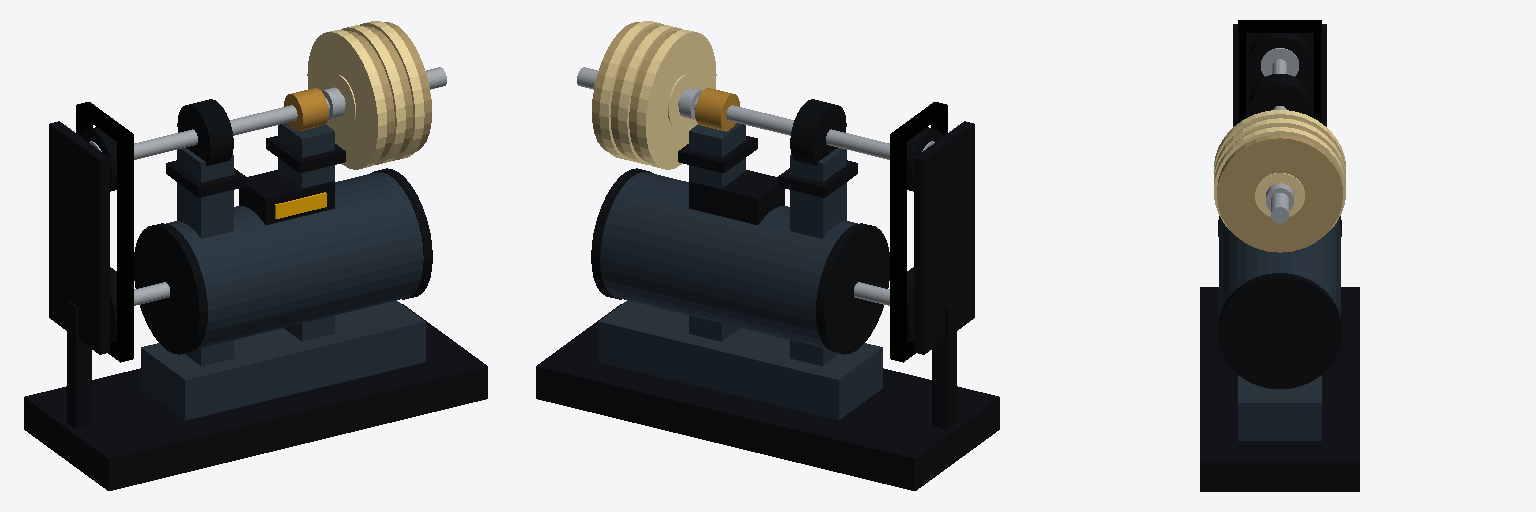
The robot description file, URDF, robot "belt_driven_buffing_wheel":
<robot name="belt_driven_buffing_wheel">
  <material name="painted_steel">
    <color rgba="0.18 0.23 0.27 1" />
    </material>
  <material name="dark_cast_metal">
    <color rgba="0.08 0.09 0.1 1" />
    </material>
  <material name="brushed_steel">
    <color rgba="0.66 0.68 0.7 1" />
    </material>
  <material name="black_rubber">
    <color rgba="0.015 0.014 0.012 1" />
    </material>
  <material name="buffing_cloth">
    <color rgba="0.92 0.84 0.62 1" />
    </material>
  <material name="cloth_shadow">
    <color rgba="0.7 0.61 0.43 1" />
    </material>
  <material name="brass_bushing">
    <color rgba="0.72 0.53 0.22 1" />
    </material>
  <material name="warning_label">
    <color rgba="0.95 0.7 0.05 1" />
    </material>
  <link name="frame">
    <visual name="base_plate">
      <origin xyz="0.05 0 0.04" rpy="0 0 0" />
      <geometry>
        <box size="0.98 0.38 0.08" />
        </geometry>
      <material name="dark_cast_metal" />
      </visual>
    <visual name="motor_pedestal">
      <origin xyz="0.12 0 0.13" rpy="0 0 0" />
      <geometry>
        <box size="0.62 0.2 0.1" />
        </geometry>
      <material name="painted_steel" />
      </visual>
    <visual name="motor_shell">
      <origin xyz="0.12 0 0.36" rpy="0 1.5708 0" />
      <geometry>
        <cylinder radius="0.145" length="0.56" />
        </geometry>
      <material name="painted_steel" />
      </visual>
    <visual name="motor_end_cap">
      <origin xyz="-0.17 0 0.36" rpy="0 1.5708 0" />
      <geometry>
        <cylinder radius="0.148" length="0.022" />
        </geometry>
      <material name="dark_cast_metal" />
      </visual>
    <visual name="rear_end_cap">
      <origin xyz="0.41 0 0.36" rpy="0 1.5708 0" />
      <geometry>
        <cylinder radius="0.148" length="0.022" />
        </geometry>
      <material name="dark_cast_metal" />
      </visual>
    <visual name="terminal_box">
      <origin xyz="0.13 0 0.52" rpy="0 0 0" />
      <geometry>
        <box size="0.18 0.12 0.075" />
        </geometry>
      <material name="dark_cast_metal" />
      </visual>
    <visual name="nameplate">
      <origin xyz="0.13 -0.062 0.52" rpy="0 0 0" />
      <geometry>
        <box size="0.13 0.004 0.035" />
        </geometry>
      <material name="warning_label" />
      </visual>
    <visual name="bearing_post_0">
      <origin xyz="-0.08 0 0.38" rpy="0 0 0" />
      <geometry>
        <box size="0.085 0.11 0.6" />
        </geometry>
      <material name="painted_steel" />
      </visual>
    <visual name="bearing_ring_0">
      <origin xyz="-0.08 0 0.72" rpy="0 0 0" />
      <geometry>
        <mesh filename="assets/meshes/bearing_ring_0.obj" />
        </geometry>
      <material name="dark_cast_metal" />
      </visual>
    <visual name="bushing_0">
      <origin xyz="-0.08 0 0.72" rpy="0 0 0" />
      <geometry>
        <mesh filename="assets/meshes/bushing_0.obj" />
        </geometry>
      <material name="brass_bushing" />
      </visual>
    <visual name="bearing_cap_foot_0">
      <origin xyz="-0.08 0 0.62" rpy="0 0 0" />
      <geometry>
        <box size="0.12 0.15 0.026" />
        </geometry>
      <material name="dark_cast_metal" />
      </visual>
    <visual name="bearing_post_1">
      <origin xyz="0.18 0 0.38" rpy="0 0 0" />
      <geometry>
        <box size="0.085 0.11 0.6" />
        </geometry>
      <material name="painted_steel" />
      </visual>
    <visual name="bearing_ring_1">
      <origin xyz="0.18 0 0.72" rpy="0 0 0" />
      <geometry>
        <mesh filename="assets/meshes/bearing_ring_1.obj" />
        </geometry>
      <material name="dark_cast_metal" />
      </visual>
    <visual name="bushing_1">
      <origin xyz="0.18 0 0.72" rpy="0 0 0" />
      <geometry>
        <mesh filename="assets/meshes/bushing_1.obj" />
        </geometry>
      <material name="brass_bushing" />
      </visual>
    <visual name="bearing_cap_foot_1">
      <origin xyz="0.18 0 0.62" rpy="0 0 0" />
      <geometry>
        <box size="0.12 0.15 0.026" />
        </geometry>
      <material name="dark_cast_metal" />
      </visual>
    <visual name="motor_output_shaft">
      <origin xyz="-0.255 0 0.36" rpy="0 1.5708 0" />
      <geometry>
        <cylinder radius="0.018" length="0.2" />
        </geometry>
      <material name="brushed_steel" />
      </visual>
    <visual name="motor_pulley">
      <origin xyz="-0.34 0 0.36" rpy="0 1.5708 0" />
      <geometry>
        <cylinder radius="0.084" length="0.045" />
        </geometry>
      <material name="dark_cast_metal" />
      </visual>
    <visual name="motor_pulley_hub">
      <origin xyz="-0.34 0 0.36" rpy="0 1.5708 0" />
      <geometry>
        <cylinder radius="0.052" length="0.052" />
        </geometry>
      <material name="brushed_steel" />
      </visual>
    <visual name="drive_belt_side_0">
      <origin xyz="-0.34 0.09 0.54" rpy="0 0 0" />
      <geometry>
        <box size="0.034 0.017 0.524" />
        </geometry>
      <material name="black_rubber" />
      </visual>
    <visual name="drive_belt_side_1">
      <origin xyz="-0.34 -0.09 0.54" rpy="0 0 0" />
      <geometry>
        <box size="0.034 0.017 0.524" />
        </geometry>
      <material name="black_rubber" />
      </visual>
    <visual name="drive_belt_upper_span">
      <origin xyz="-0.34 0 0.809" rpy="0 0 0" />
      <geometry>
        <box size="0.034 0.198 0.018" />
        </geometry>
      <material name="black_rubber" />
      </visual>
    <visual name="drive_belt_lower_span">
      <origin xyz="-0.34 0 0.271" rpy="0 0 0" />
      <geometry>
        <box size="0.034 0.198 0.018" />
        </geometry>
      <material name="black_rubber" />
      </visual>
    <visual name="belt_guard_backplate">
      <origin xyz="-0.405 0 0.54" rpy="0 0 0" />
      <geometry>
        <box size="0.026 0.225 0.48" />
        </geometry>
      <material name="dark_cast_metal" />
      </visual>
    <visual name="belt_guard_stand">
      <origin xyz="-0.405 0 0.23" rpy="0 0 0" />
      <geometry>
        <box size="0.04 0.04 0.3" />
        </geometry>
      <material name="dark_cast_metal" />
      </visual>
    <collision name="base_plate">
      <origin xyz="0.05 0 0.04" rpy="0 0 0" />
      <geometry>
        <box size="0.98 0.38 0.08" />
        </geometry>
      </collision>
    <collision name="motor_pedestal">
      <origin xyz="0.12 0 0.13" rpy="0 0 0" />
      <geometry>
        <box size="0.62 0.2 0.1" />
        </geometry>
      </collision>
    <collision name="motor_shell">
      <origin xyz="0.12 0 0.36" rpy="0 1.5708 0" />
      <geometry>
        <cylinder radius="0.145" length="0.56" />
        </geometry>
      </collision>
    <collision name="motor_end_cap">
      <origin xyz="-0.17 0 0.36" rpy="0 1.5708 0" />
      <geometry>
        <cylinder radius="0.148" length="0.022" />
        </geometry>
      </collision>
    <collision name="rear_end_cap">
      <origin xyz="0.41 0 0.36" rpy="0 1.5708 0" />
      <geometry>
        <cylinder radius="0.148" length="0.022" />
        </geometry>
      </collision>
    <collision name="terminal_box">
      <origin xyz="0.13 0 0.52" rpy="0 0 0" />
      <geometry>
        <box size="0.18 0.12 0.075" />
        </geometry>
      </collision>
    <collision name="nameplate">
      <origin xyz="0.13 -0.062 0.52" rpy="0 0 0" />
      <geometry>
        <box size="0.13 0.004 0.035" />
        </geometry>
      </collision>
    <collision name="bearing_post_0">
      <origin xyz="-0.08 0 0.38" rpy="0 0 0" />
      <geometry>
        <box size="0.085 0.11 0.6" />
        </geometry>
      </collision>
    <collision name="bearing_ring_0">
      <origin xyz="-0.08 0 0.72" rpy="0 0 0" />
      <geometry>
        <mesh filename="assets/meshes/bearing_ring_0.obj" />
        </geometry>
      </collision>
    <collision name="bushing_0">
      <origin xyz="-0.08 0 0.72" rpy="0 0 0" />
      <geometry>
        <mesh filename="assets/meshes/bushing_0.obj" />
        </geometry>
      </collision>
    <collision name="bearing_cap_foot_0">
      <origin xyz="-0.08 0 0.62" rpy="0 0 0" />
      <geometry>
        <box size="0.12 0.15 0.026" />
        </geometry>
      </collision>
    <collision name="bearing_post_1">
      <origin xyz="0.18 0 0.38" rpy="0 0 0" />
      <geometry>
        <box size="0.085 0.11 0.6" />
        </geometry>
      </collision>
    <collision name="bearing_ring_1">
      <origin xyz="0.18 0 0.72" rpy="0 0 0" />
      <geometry>
        <mesh filename="assets/meshes/bearing_ring_1.obj" />
        </geometry>
      </collision>
    <collision name="bushing_1">
      <origin xyz="0.18 0 0.72" rpy="0 0 0" />
      <geometry>
        <mesh filename="assets/meshes/bushing_1.obj" />
        </geometry>
      </collision>
    <collision name="bearing_cap_foot_1">
      <origin xyz="0.18 0 0.62" rpy="0 0 0" />
      <geometry>
        <box size="0.12 0.15 0.026" />
        </geometry>
      </collision>
    <collision name="motor_output_shaft">
      <origin xyz="-0.255 0 0.36" rpy="0 1.5708 0" />
      <geometry>
        <cylinder radius="0.018" length="0.2" />
        </geometry>
      </collision>
    <collision name="motor_pulley">
      <origin xyz="-0.34 0 0.36" rpy="0 1.5708 0" />
      <geometry>
        <cylinder radius="0.084" length="0.045" />
        </geometry>
      </collision>
    <collision name="motor_pulley_hub">
      <origin xyz="-0.34 0 0.36" rpy="0 1.5708 0" />
      <geometry>
        <cylinder radius="0.052" length="0.052" />
        </geometry>
      </collision>
    <collision name="drive_belt_side_0">
      <origin xyz="-0.34 0.09 0.54" rpy="0 0 0" />
      <geometry>
        <box size="0.034 0.017 0.524" />
        </geometry>
      </collision>
    <collision name="drive_belt_side_1">
      <origin xyz="-0.34 -0.09 0.54" rpy="0 0 0" />
      <geometry>
        <box size="0.034 0.017 0.524" />
        </geometry>
      </collision>
    <collision name="drive_belt_upper_span">
      <origin xyz="-0.34 0 0.809" rpy="0 0 0" />
      <geometry>
        <box size="0.034 0.198 0.018" />
        </geometry>
      </collision>
    <collision name="drive_belt_lower_span">
      <origin xyz="-0.34 0 0.271" rpy="0 0 0" />
      <geometry>
        <box size="0.034 0.198 0.018" />
        </geometry>
      </collision>
    <collision name="belt_guard_backplate">
      <origin xyz="-0.405 0 0.54" rpy="0 0 0" />
      <geometry>
        <box size="0.026 0.225 0.48" />
        </geometry>
      </collision>
    <collision name="belt_guard_stand">
      <origin xyz="-0.405 0 0.23" rpy="0 0 0" />
      <geometry>
        <box size="0.04 0.04 0.3" />
        </geometry>
      </collision>
    </link>
  <link name="spindle">
    <visual name="shaft">
      <origin xyz="0.05 0 0" rpy="0 1.5708 0" />
      <geometry>
        <cylinder radius="0.018" length="0.86" />
        </geometry>
      <material name="brushed_steel" />
      </visual>
    <visual name="driven_pulley">
      <origin xyz="-0.34 0 0" rpy="0 1.5708 0" />
      <geometry>
        <cylinder radius="0.074" length="0.05" />
        </geometry>
      <material name="dark_cast_metal" />
      </visual>
    <visual name="driven_pulley_hub">
      <origin xyz="-0.34 0 0" rpy="0 1.5708 0" />
      <geometry>
        <cylinder radius="0.046" length="0.058" />
        </geometry>
      <material name="brushed_steel" />
      </visual>
    <visual name="inner_flange">
      <origin xyz="0.245 0 0" rpy="0 1.5708 0" />
      <geometry>
        <cylinder radius="0.034" length="0.03" />
        </geometry>
      <material name="brushed_steel" />
      </visual>
    <visual name="outer_flange">
      <origin xyz="0.435 0 0" rpy="0 1.5708 0" />
      <geometry>
        <cylinder radius="0.034" length="0.03" />
        </geometry>
      <material name="brushed_steel" />
      </visual>
    <visual name="cloth_layer_0">
      <origin xyz="0.286 0 0" rpy="0 1.5708 0" />
      <geometry>
        <cylinder radius="0.158" length="0.024" />
        </geometry>
      <material name="buffing_cloth" />
      </visual>
    <visual name="cloth_layer_1">
      <origin xyz="0.31 0 0" rpy="0 1.5708 0" />
      <geometry>
        <cylinder radius="0.15" length="0.024" />
        </geometry>
      <material name="cloth_shadow" />
      </visual>
    <visual name="cloth_layer_2">
      <origin xyz="0.334 0 0" rpy="0 1.5708 0" />
      <geometry>
        <cylinder radius="0.158" length="0.024" />
        </geometry>
      <material name="buffing_cloth" />
      </visual>
    <visual name="cloth_layer_3">
      <origin xyz="0.358 0 0" rpy="0 1.5708 0" />
      <geometry>
        <cylinder radius="0.15" length="0.024" />
        </geometry>
      <material name="cloth_shadow" />
      </visual>
    <visual name="cloth_layer_4">
      <origin xyz="0.382 0 0" rpy="0 1.5708 0" />
      <geometry>
        <cylinder radius="0.158" length="0.024" />
        </geometry>
      <material name="buffing_cloth" />
      </visual>
    <visual name="cloth_layer_5">
      <origin xyz="0.406 0 0" rpy="0 1.5708 0" />
      <geometry>
        <cylinder radius="0.15" length="0.024" />
        </geometry>
      <material name="cloth_shadow" />
      </visual>
    <visual name="stitched_center">
      <origin xyz="0.346 0 0" rpy="0 1.5708 0" />
      <geometry>
        <cylinder radius="0.06" length="0.15" />
        </geometry>
      <material name="buffing_cloth" />
      </visual>
    <visual name="threaded_nose">
      <origin xyz="0.485 0 0" rpy="0 1.5708 0" />
      <geometry>
        <cylinder radius="0.022" length="0.09" />
        </geometry>
      <material name="brushed_steel" />
      </visual>
    <collision name="shaft">
      <origin xyz="0.05 0 0" rpy="0 1.5708 0" />
      <geometry>
        <cylinder radius="0.018" length="0.86" />
        </geometry>
      </collision>
    <collision name="driven_pulley">
      <origin xyz="-0.34 0 0" rpy="0 1.5708 0" />
      <geometry>
        <cylinder radius="0.074" length="0.05" />
        </geometry>
      </collision>
    <collision name="driven_pulley_hub">
      <origin xyz="-0.34 0 0" rpy="0 1.5708 0" />
      <geometry>
        <cylinder radius="0.046" length="0.058" />
        </geometry>
      </collision>
    <collision name="inner_flange">
      <origin xyz="0.245 0 0" rpy="0 1.5708 0" />
      <geometry>
        <cylinder radius="0.034" length="0.03" />
        </geometry>
      </collision>
    <collision name="outer_flange">
      <origin xyz="0.435 0 0" rpy="0 1.5708 0" />
      <geometry>
        <cylinder radius="0.034" length="0.03" />
        </geometry>
      </collision>
    <collision name="cloth_layer_0">
      <origin xyz="0.286 0 0" rpy="0 1.5708 0" />
      <geometry>
        <cylinder radius="0.158" length="0.024" />
        </geometry>
      </collision>
    <collision name="cloth_layer_1">
      <origin xyz="0.31 0 0" rpy="0 1.5708 0" />
      <geometry>
        <cylinder radius="0.15" length="0.024" />
        </geometry>
      </collision>
    <collision name="cloth_layer_2">
      <origin xyz="0.334 0 0" rpy="0 1.5708 0" />
      <geometry>
        <cylinder radius="0.158" length="0.024" />
        </geometry>
      </collision>
    <collision name="cloth_layer_3">
      <origin xyz="0.358 0 0" rpy="0 1.5708 0" />
      <geometry>
        <cylinder radius="0.15" length="0.024" />
        </geometry>
      </collision>
    <collision name="cloth_layer_4">
      <origin xyz="0.382 0 0" rpy="0 1.5708 0" />
      <geometry>
        <cylinder radius="0.158" length="0.024" />
        </geometry>
      </collision>
    <collision name="cloth_layer_5">
      <origin xyz="0.406 0 0" rpy="0 1.5708 0" />
      <geometry>
        <cylinder radius="0.15" length="0.024" />
        </geometry>
      </collision>
    <collision name="stitched_center">
      <origin xyz="0.346 0 0" rpy="0 1.5708 0" />
      <geometry>
        <cylinder radius="0.06" length="0.15" />
        </geometry>
      </collision>
    <collision name="threaded_nose">
      <origin xyz="0.485 0 0" rpy="0 1.5708 0" />
      <geometry>
        <cylinder radius="0.022" length="0.09" />
        </geometry>
      </collision>
    </link>
  <joint name="spindle_spin" type="continuous">
    <origin xyz="0 0 0.72" rpy="0 0 0" />
    <parent link="frame" />
    <child link="spindle" />
    <axis xyz="1 0 0" />
    <limit effort="12" velocity="45" />
    </joint>
  </robot>

--- Render facts (derived) ---
3 views of the same robot in one strip: view 1: azimuth 30°, elevation 25°; view 2: azimuth 150°, elevation 25°; view 3: azimuth 270°, elevation 25° (orthographic).
Robot: belt_driven_buffing_wheel — 2 links, 1 joints (1 continuous); root link frame; default pose: every joint at zero.
Visible links, largest first — view 1: frame, spindle; view 2: frame, spindle; view 3: frame, spindle.
Link boxes in pixels (left/top/right/bottom): frame: left=24, top=88, right=487, bottom=490; spindle: left=81, top=21, right=446, bottom=191; frame: left=536, top=88, right=999, bottom=490; spindle: left=577, top=21, right=942, bottom=191; frame: left=1200, top=20, right=1359, bottom=491; spindle: left=1214, top=33, right=1345, bottom=252.
Size in the robot's own frame: 0.98 by 0.38 by 0.878 metres.
Meshes: 4 distinct files referenced, 2 mesh visuals loaded (2 OBJ); not drawn: 2 (reference not matched to a file when rendering).
